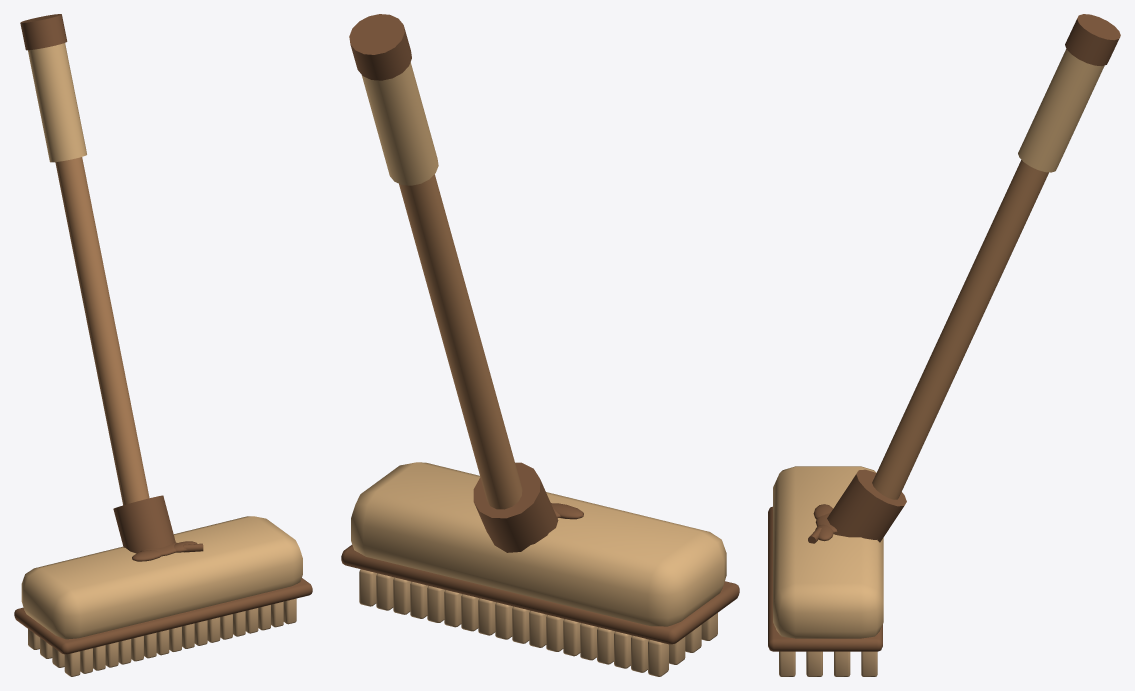
The model's file is tier_4_engraved_wood.glb.
The picture shows the model from 3 angles, left to right: view 1: azimuth 30°, elevation 25°; view 2: azimuth 150°, elevation 25°; view 3: azimuth 270°, elevation 25°; orthographic projection. The views are drawn at different scales.
Parts seen in each view (by area): view 1: BrushTier4_Engraved; view 2: BrushTier4_Engraved; view 3: BrushTier4_Engraved.
Boxes of the visible parts, bbox=[...] form: BrushTier4_Engraved: bbox=[14, 14, 312, 676]; BrushTier4_Engraved: bbox=[341, 14, 739, 676]; BrushTier4_Engraved: bbox=[768, 14, 1120, 676].
Bounding box in the file's own units: 0.79 × 1.61 × 0.8603.
